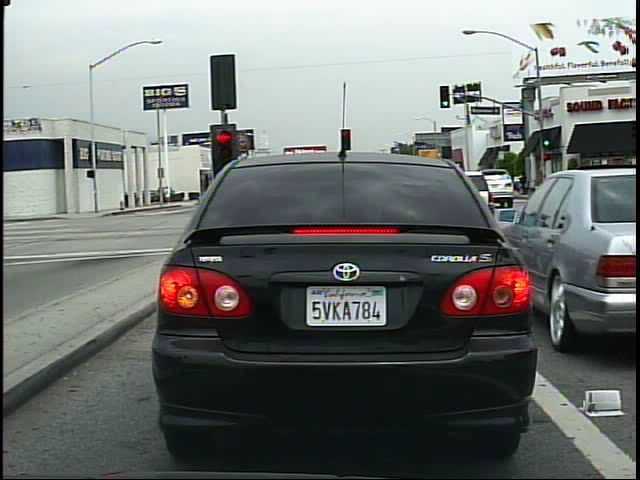person: (518, 168, 532, 200), (164, 184, 173, 208)
